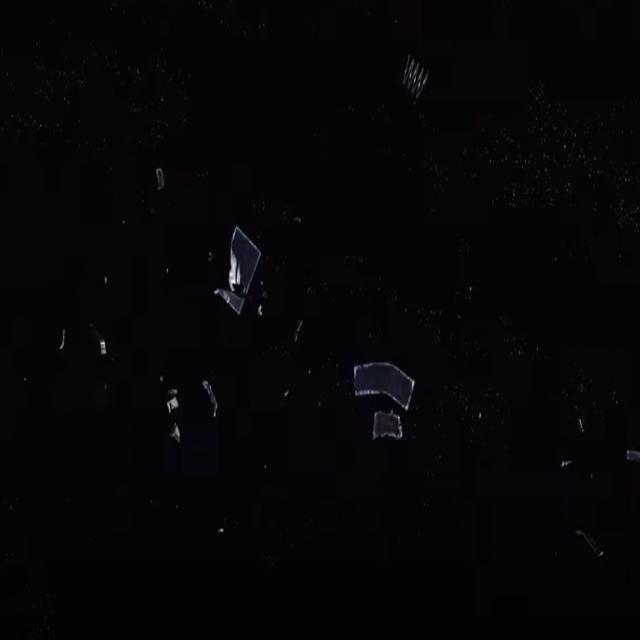large_debris: (352, 325, 417, 459), (212, 226, 277, 318), (395, 37, 431, 115), (159, 387, 181, 453), (197, 373, 222, 429)
